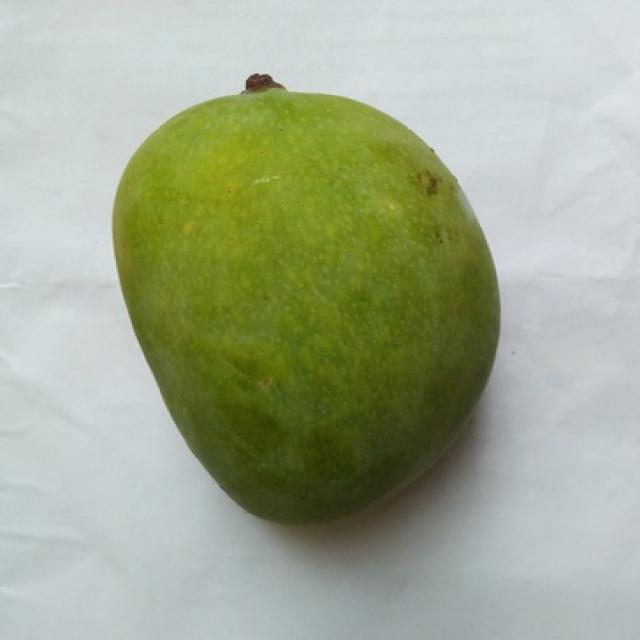Mango: (113, 76, 496, 522)
